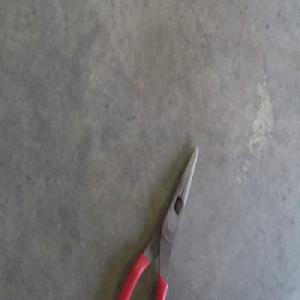Pliers: (119, 145, 199, 298)
